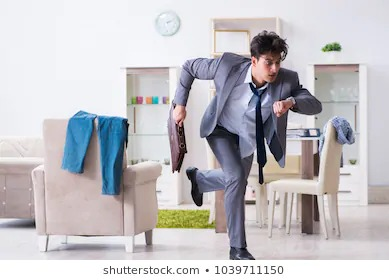F_dress pants: (194, 118, 264, 249)
F_tie: (244, 85, 270, 185)
